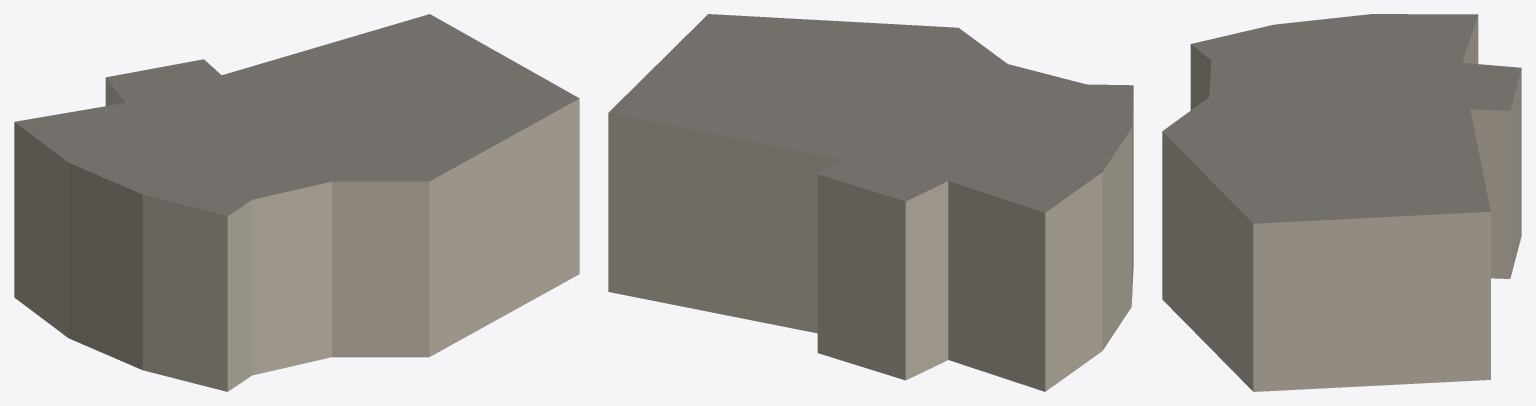
3 views of the same model, side by side, from view 1: azimuth 30°, elevation 25°; view 2: azimuth 150°, elevation 25°; view 3: azimuth 270°, elevation 25° (orthographic). The views are drawn at different scales.
Visible parts, largest first — view 1: HP-w505655120; view 2: HP-w505655120; view 3: HP-w505655120.
Boxes of the visible parts, box(x1,y1,x2,y2) form: HP-w505655120: box(14, 14, 579, 391); HP-w505655120: box(608, 14, 1133, 391); HP-w505655120: box(1162, 14, 1521, 391).
Size of the model in its own units: 48.17 by 18 by 34.87.
